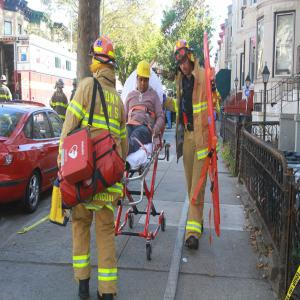none: (173, 95, 176, 100)
red: (92, 37, 116, 79), (174, 39, 192, 77)
yellow: (136, 59, 152, 91)
